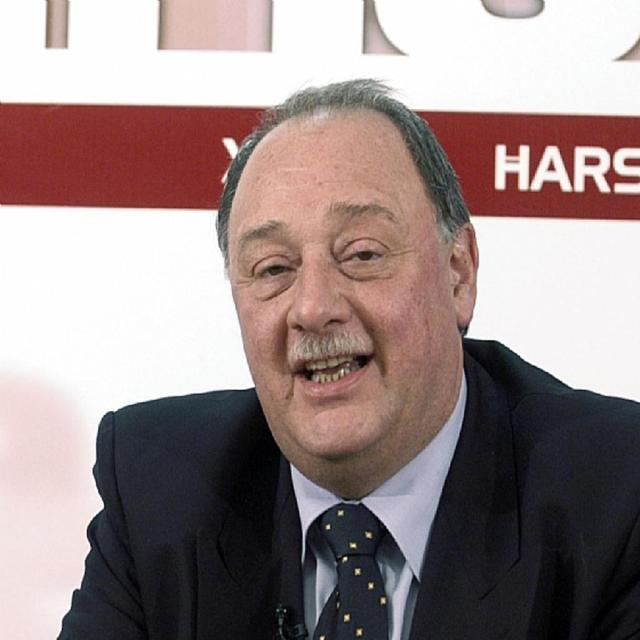Face: (220, 125, 470, 480)
